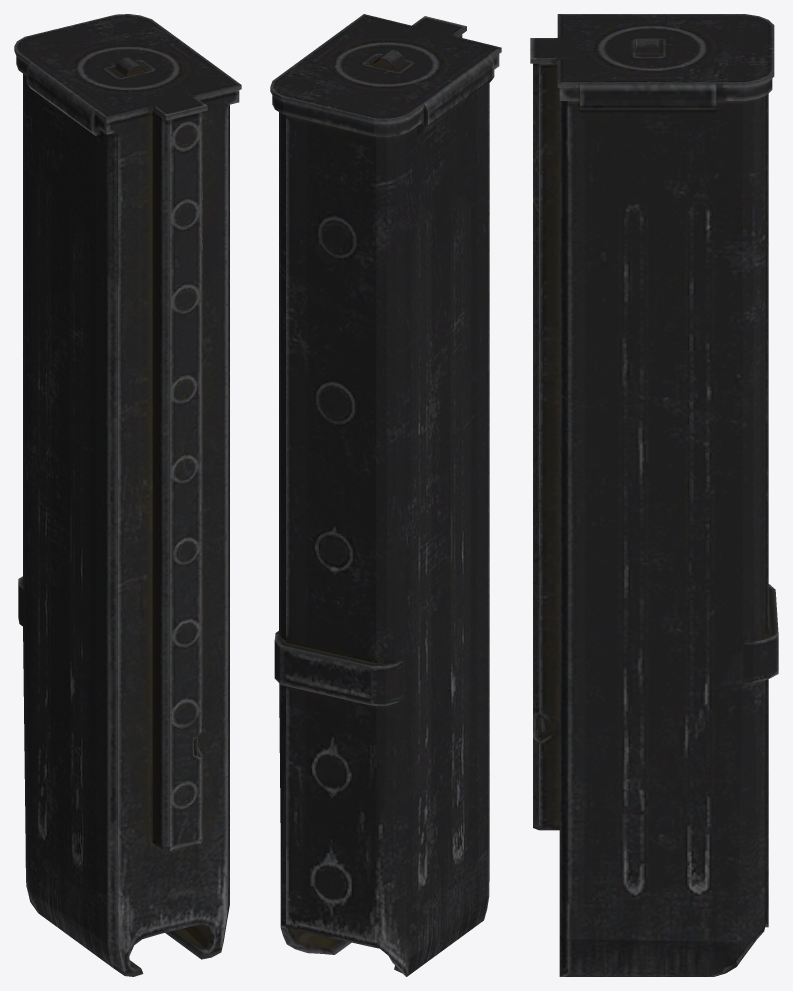
3 renders of one model, left to right at view 1: azimuth 30°, elevation 25°; view 2: azimuth 150°, elevation 25°; view 3: azimuth 270°, elevation 25°, orthographic. The views are drawn at different scales.
Parts seen in each view (by area): view 1: TW_57d14e1724597714010c3f4b_PZ_Import; view 2: TW_57d14e1724597714010c3f4b_PZ_Import; view 3: TW_57d14e1724597714010c3f4b_PZ_Import.
Part boxes in pixels (x1=…): TW_57d14e1724597714010c3f4b_PZ_Import: x1=14, y1=14, x2=241, y2=976; TW_57d14e1724597714010c3f4b_PZ_Import: x1=270, y1=14, x2=501, y2=976; TW_57d14e1724597714010c3f4b_PZ_Import: x1=530, y1=14, x2=778, y2=976.
Bounding box in the file's own units: 0.0139 × 0.0202 × 0.0821.
1 material, 1 textured.
